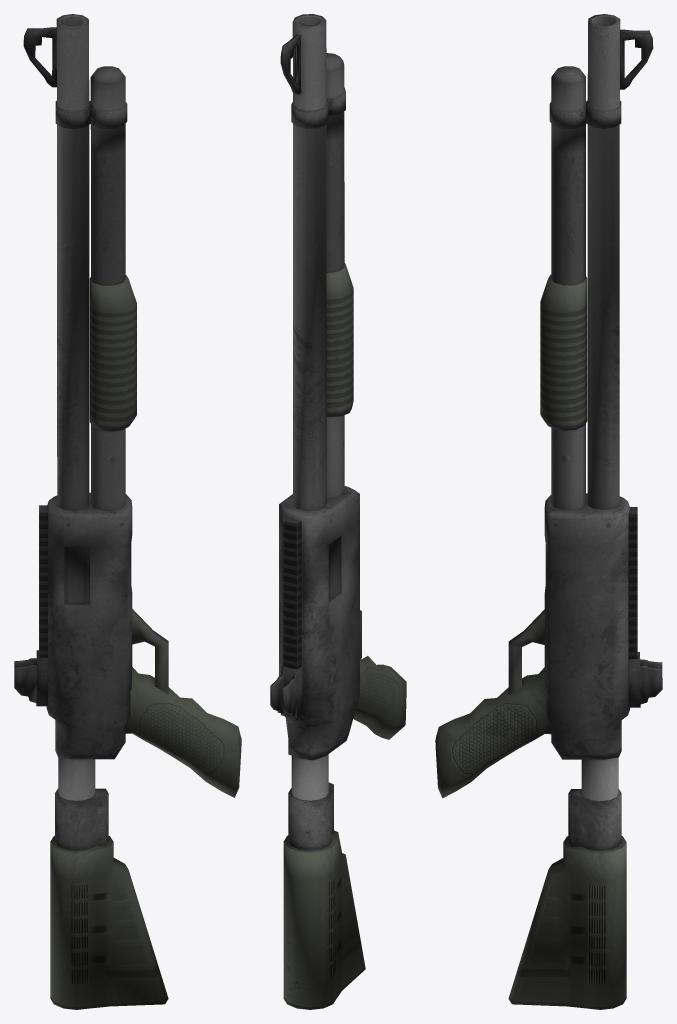
Rendered from TLOG_TacticalShotgun.fbx.
3 renders of one model, left to right at view 1: azimuth 90°, elevation 25°; view 2: azimuth 150°, elevation 25°; view 3: azimuth 270°, elevation 25°, orthographic.
Visible parts, largest first — view 1: TacticalShotgun; view 2: TacticalShotgun; view 3: TacticalShotgun.
Boxes of the visible parts, x1,y1,x2,y2 form: TacticalShotgun: (14,14,241,1009); TacticalShotgun: (270,14,406,1009); TacticalShotgun: (435,14,662,1009).
Bounding box in the file's own units: 0.0293 × 0.5511 × 0.1161.
